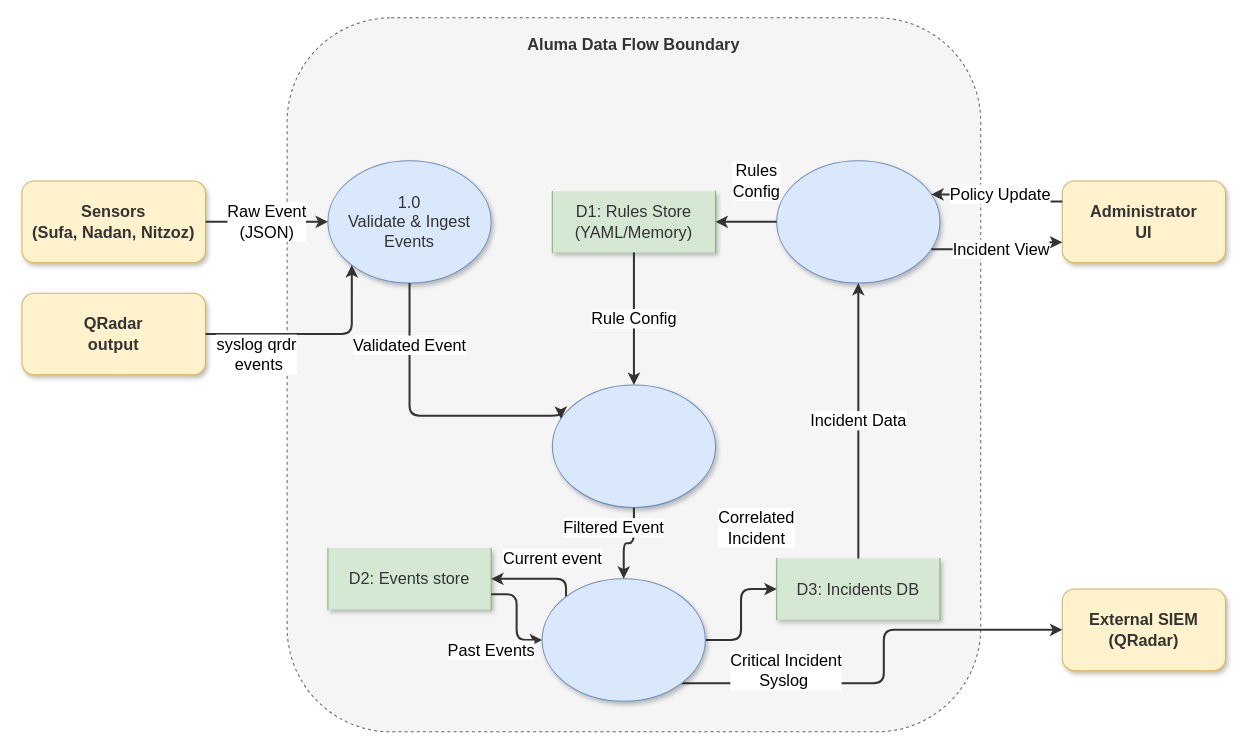
The diagram is 1250 pixels wide and 750 high, and some of its shapes have lost their labels. The centre of each missing label's shape, as x and y in pixels:
"2.0 Prefilter Rules (Known bad pass filter, Known good reject filter)" goes at pixel 634 447.
"3.0 Correlation Engine" goes at pixel 624 641.
"4.0 Serve UI & Manage Policy" goes at pixel 859 223.
